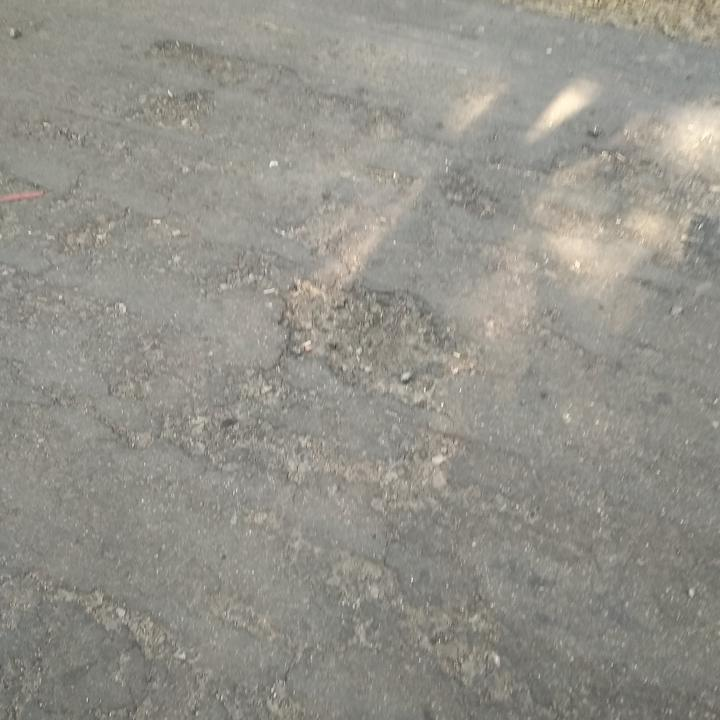pothole: (269, 269, 483, 409)
